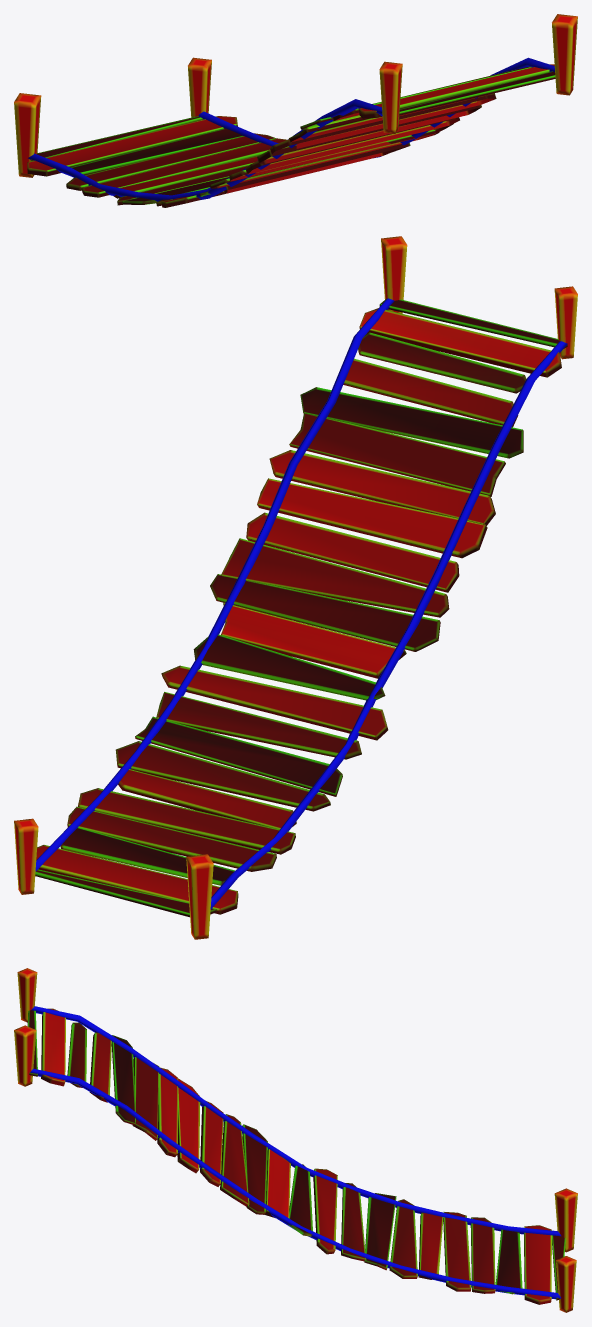
The model's file is SM_Bridge_04.FBX.
3 renders of one model, top to bottom at view 1: azimuth 30°, elevation 25°; view 2: azimuth 150°, elevation 25°; view 3: azimuth 270°, elevation 25°, orthographic. The views are drawn at different scales.
Parts seen in each view (by area): view 1: SM_Bridge_04; view 2: SM_Bridge_04; view 3: SM_Bridge_04.
Boxes of the visible parts, bbox=[...] form: SM_Bridge_04: bbox=[14, 14, 577, 207]; SM_Bridge_04: bbox=[14, 236, 577, 939]; SM_Bridge_04: bbox=[14, 968, 577, 1312].
Size of what is drawn, in the model's own units: 430 by 1254 by 691.
